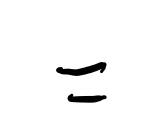eqv: (51, 57, 112, 106)
